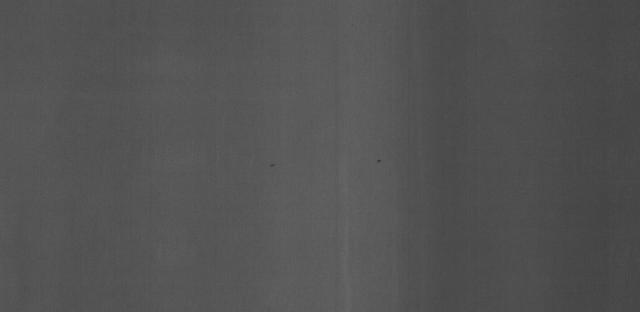inclusion: (368, 154, 392, 169), (264, 157, 281, 177)
